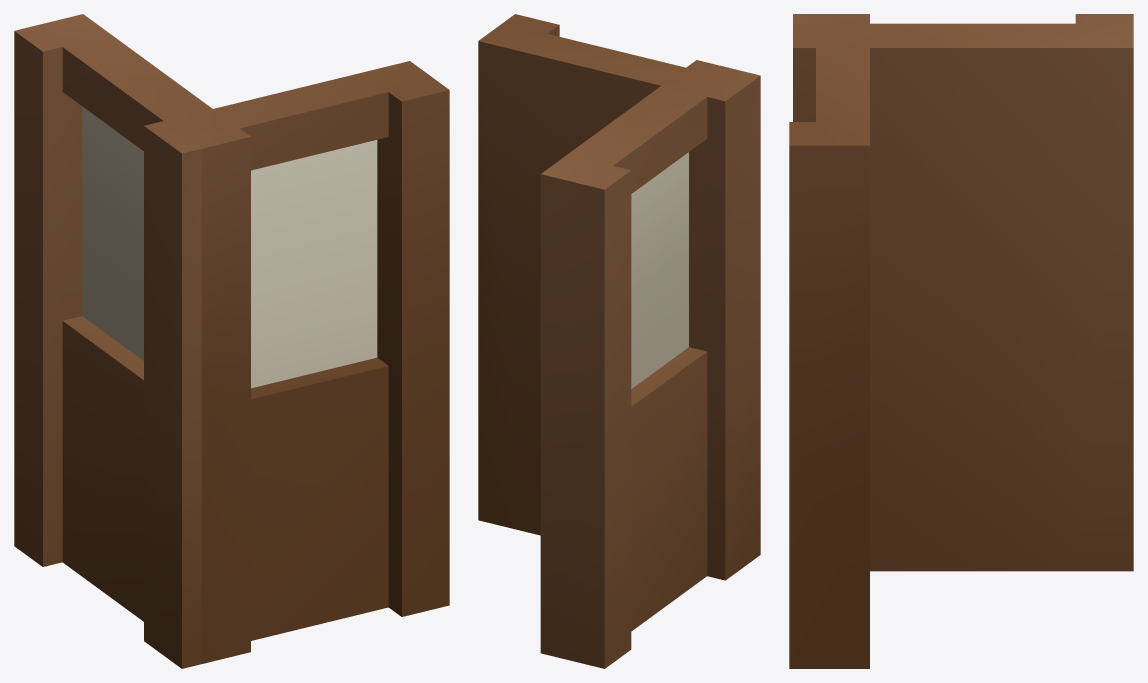
The model's file is House_Wall_Corner.fbx.
3 renders of one model, left to right at view 1: azimuth 30°, elevation 25°; view 2: azimuth 150°, elevation 25°; view 3: azimuth 270°, elevation 25°, orthographic. The views are drawn at different scales.
Parts seen in each view (by area): view 1: House_Wall_Corner; view 2: House_Wall_Corner; view 3: House_Wall_Corner.
Boxes of the visible parts, box(x1,y1,x2,y2) form: House_Wall_Corner: box(14, 14, 449, 668); House_Wall_Corner: box(478, 14, 760, 668); House_Wall_Corner: box(789, 14, 1133, 668).
Size of the model in its own units: 1.08 by 2 by 1.19.
1 material, 1 textured.
